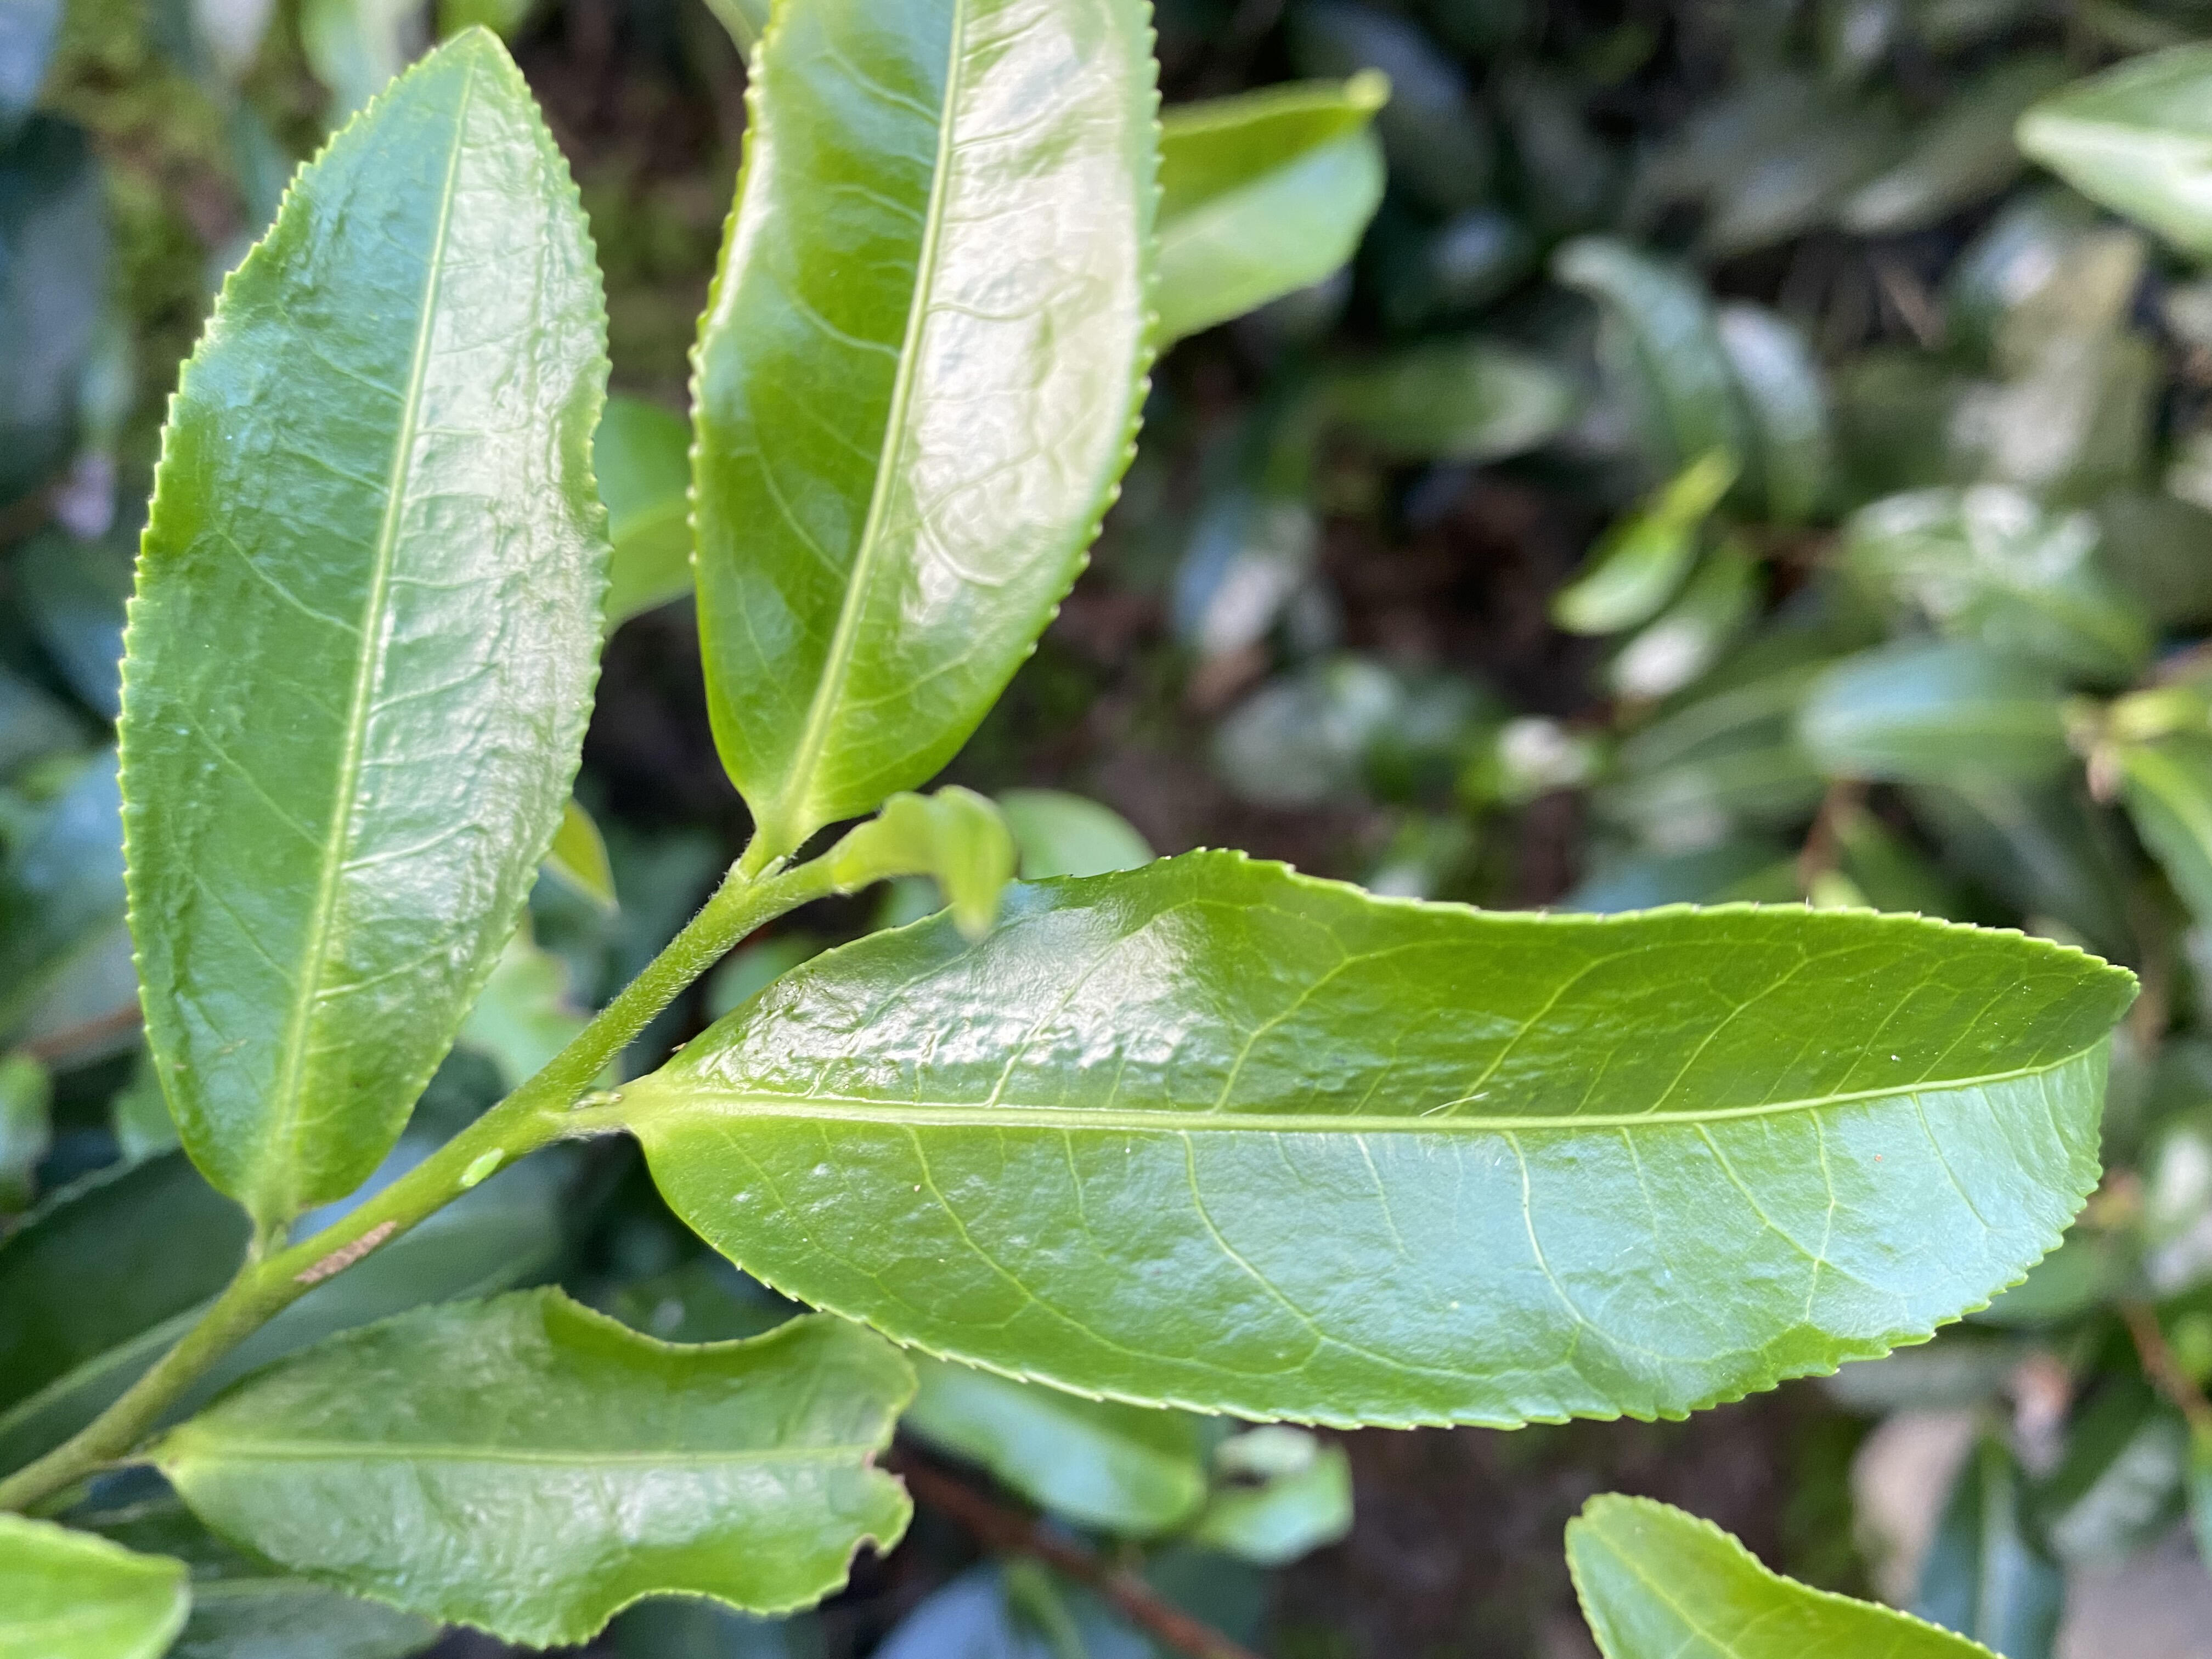chihuo_high: (153, 1284, 923, 1650)
healthy: (641, 842, 2142, 1438), (113, 24, 618, 1223), (683, 2, 1170, 826)
